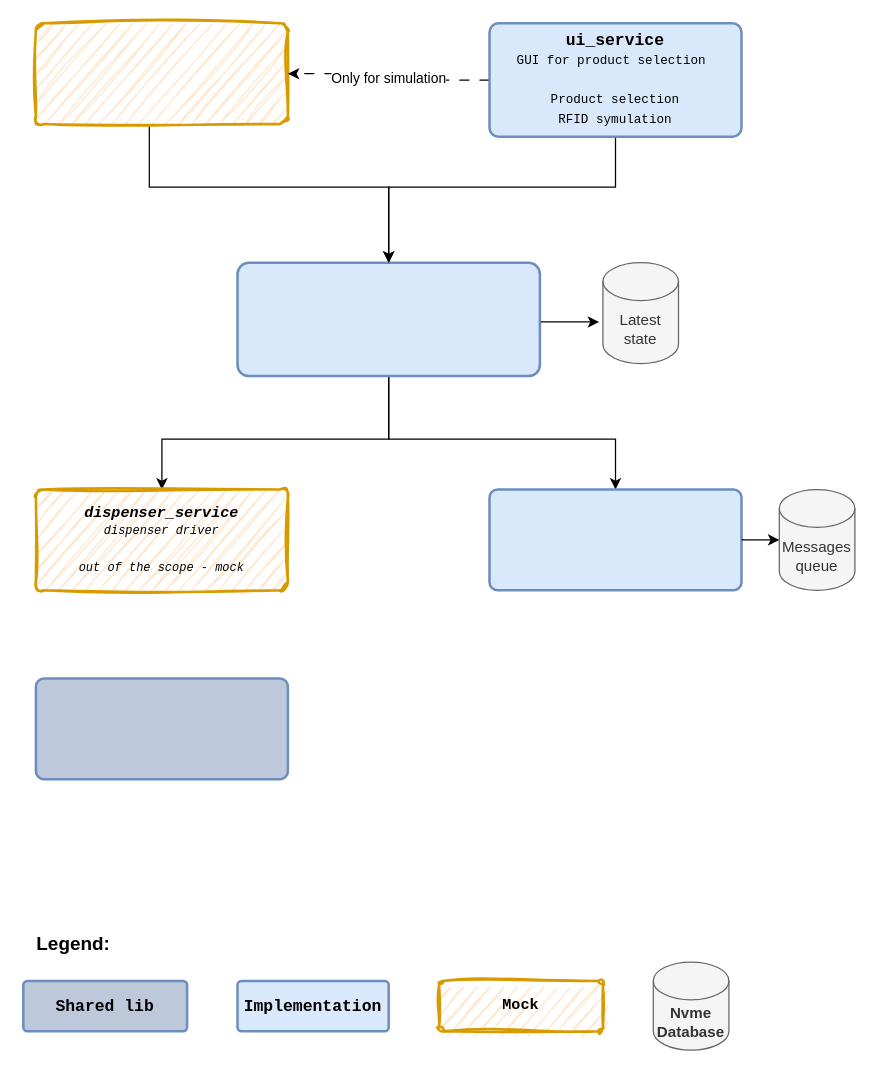
This 877x1072 diagram has some shape labels left out. The shapes that lost their labels are listed below. From the top down, each one's centre as x and y in pixels, then its label:
At (161,73): "rfid_service RFID driver out of the scope - mock".
At (388,319): "vending_engine_service Transaction cycle orchestration".
At (615,539): "cloud_service uploading data to the cloud".
At (161,728): "shared_helper Reusable code shared by all modules".
